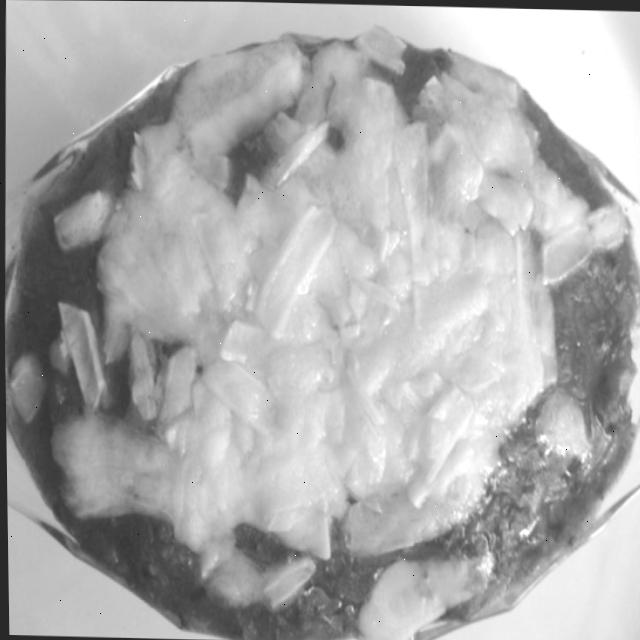米饭主食: (0, 22, 640, 640)
